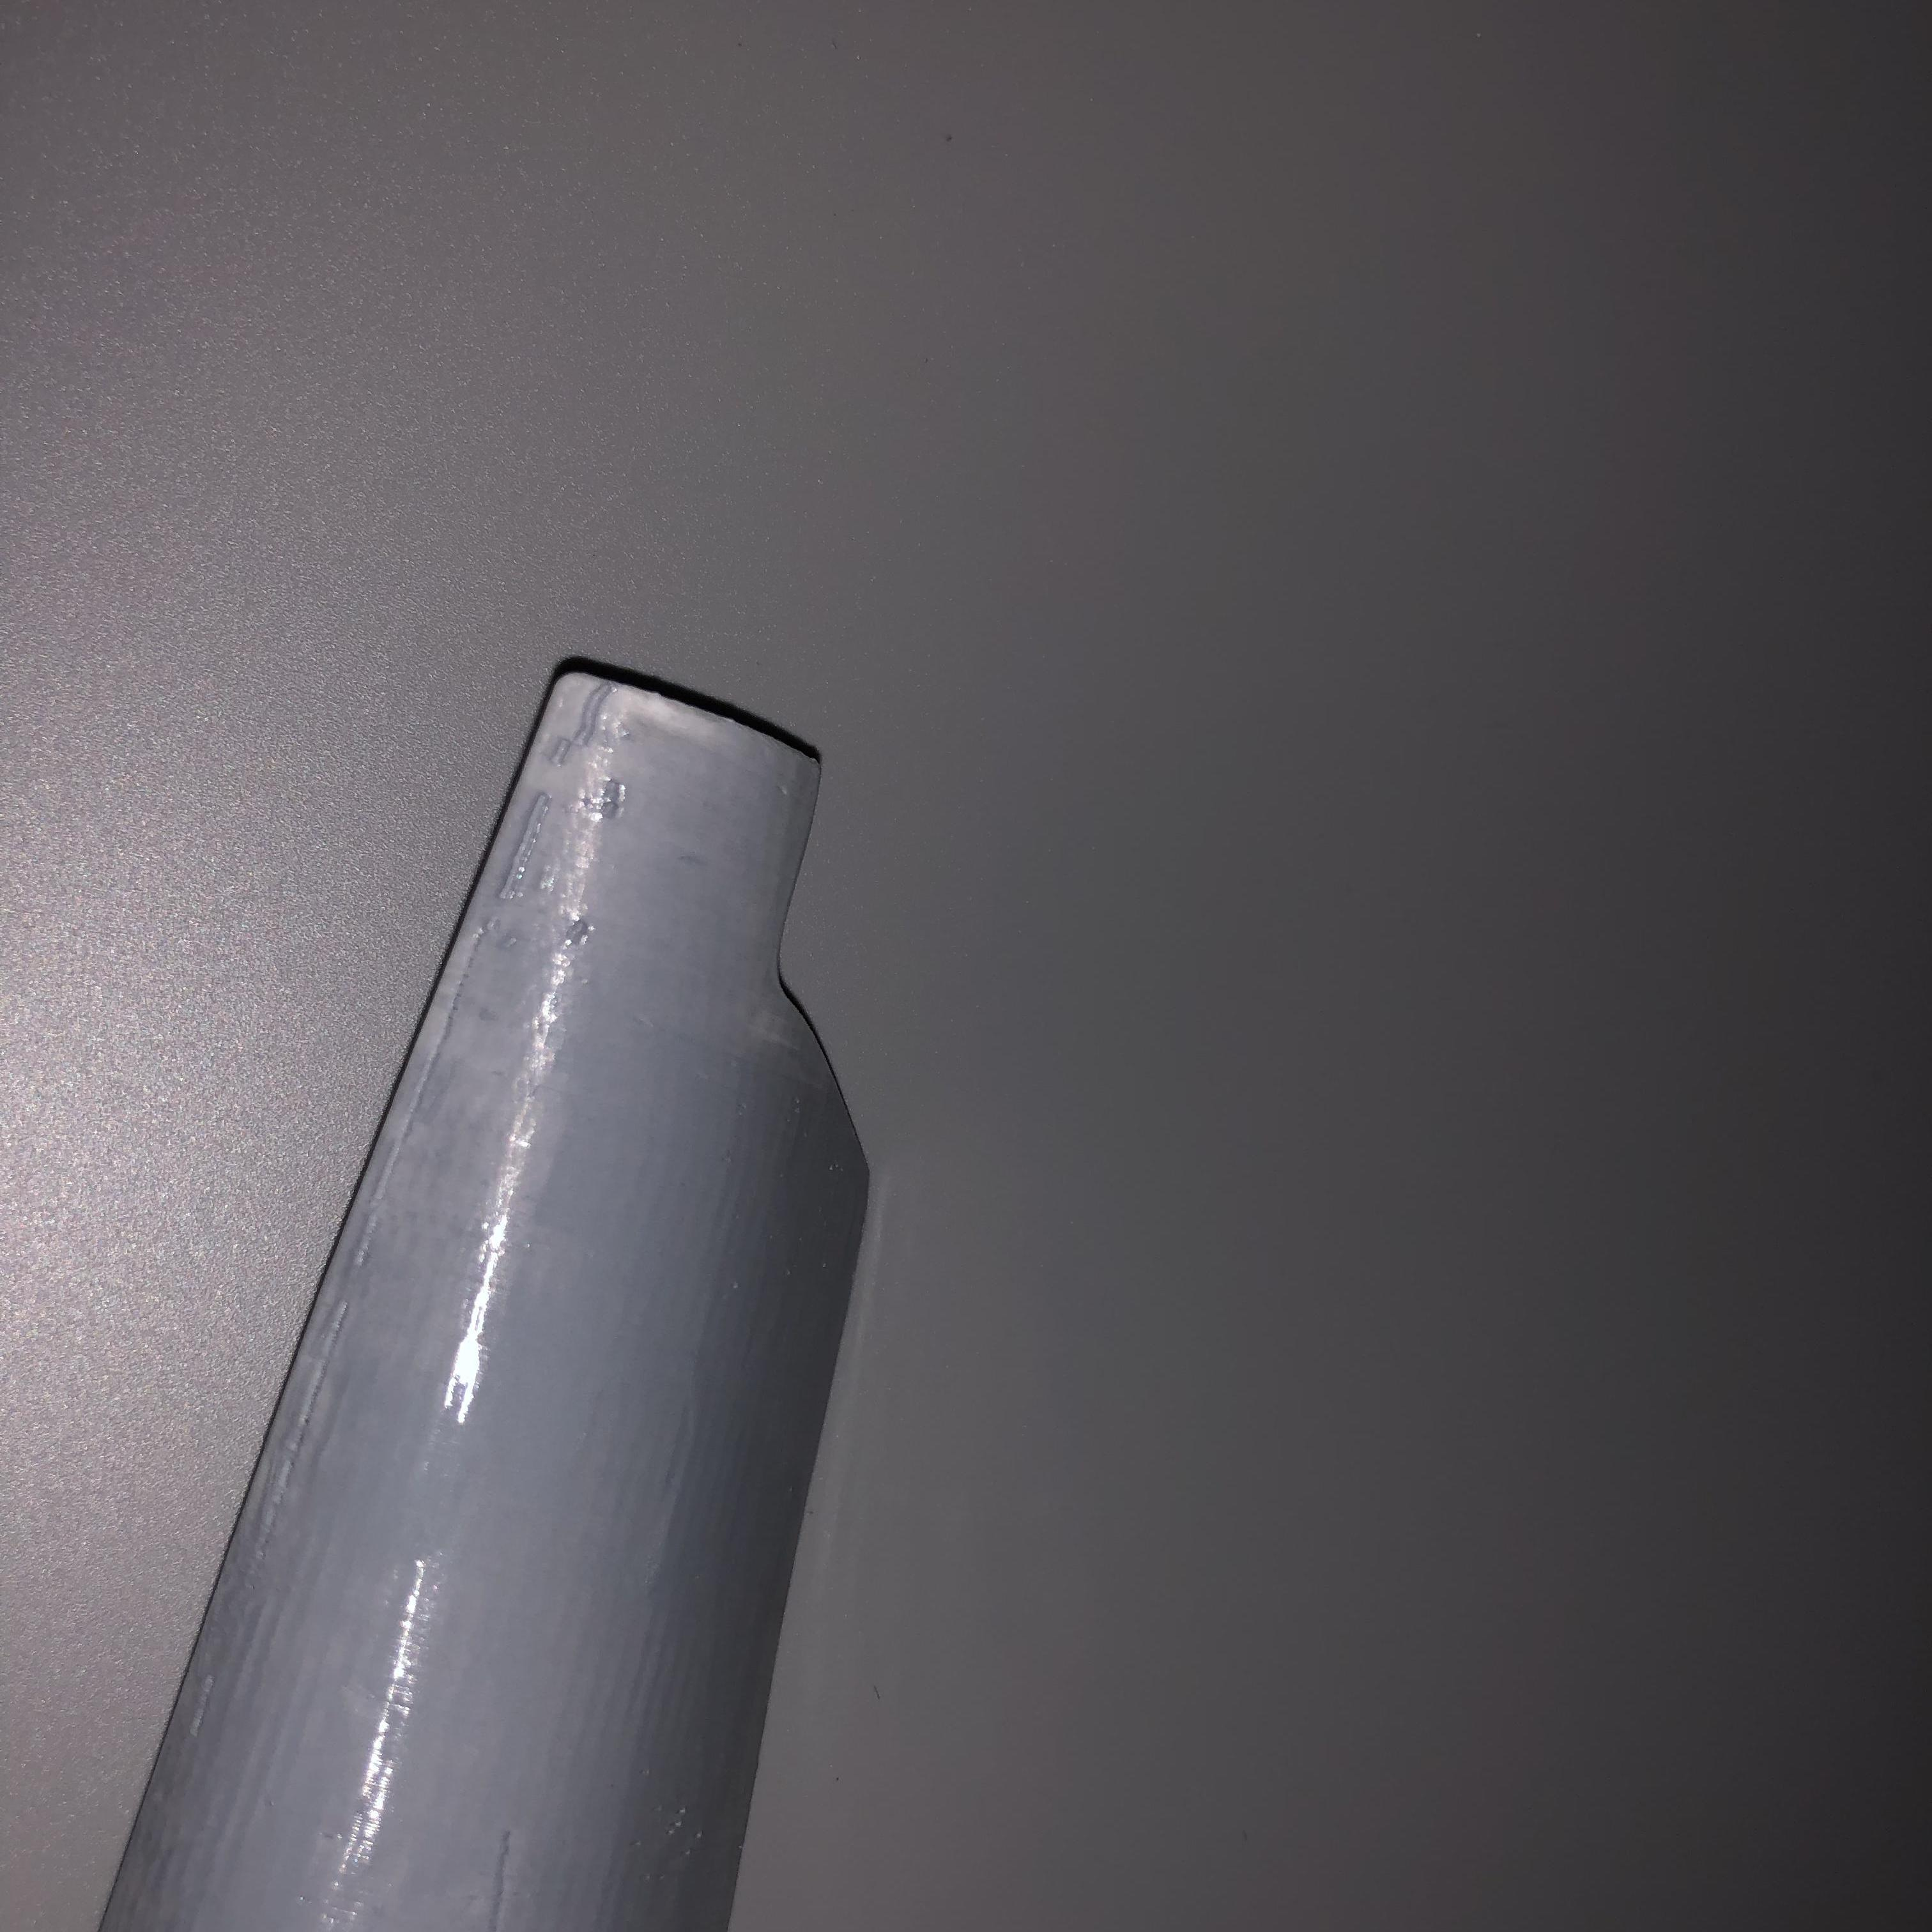fracture: (763, 754, 883, 1194)
